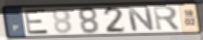2: (103, 6, 127, 33)
8: (77, 6, 101, 35), (52, 7, 74, 35)
E: (23, 8, 51, 36)
N: (125, 6, 156, 33)
R: (152, 5, 182, 32)
